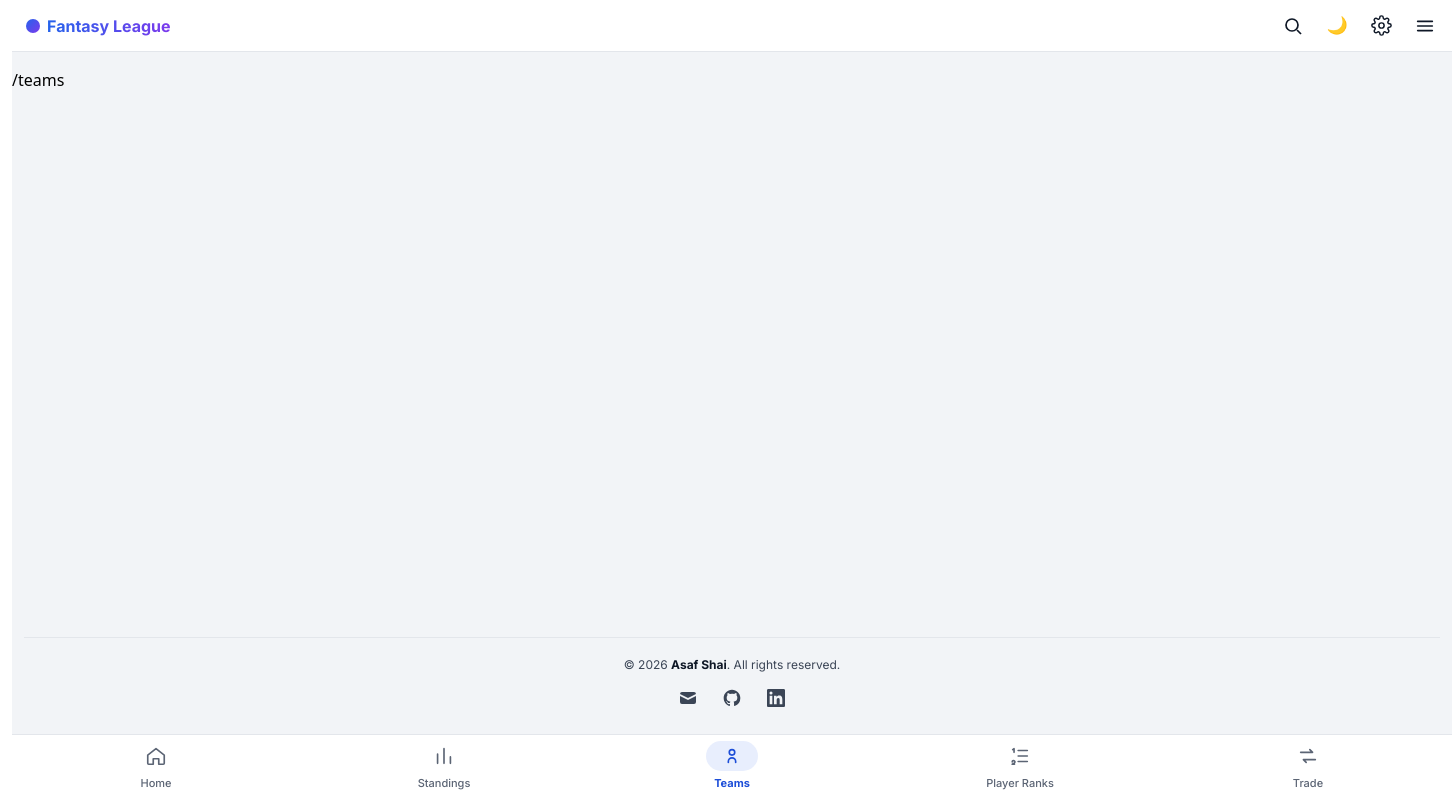
Test: Settings page › opens from the header gear
The width and height of the screenshot is (1452, 810).
What coordinates should you click on to do the following:
click the link named "Settings"
I would click on:
 (1381, 26)
Its box is [1370, 15, 1392, 36].
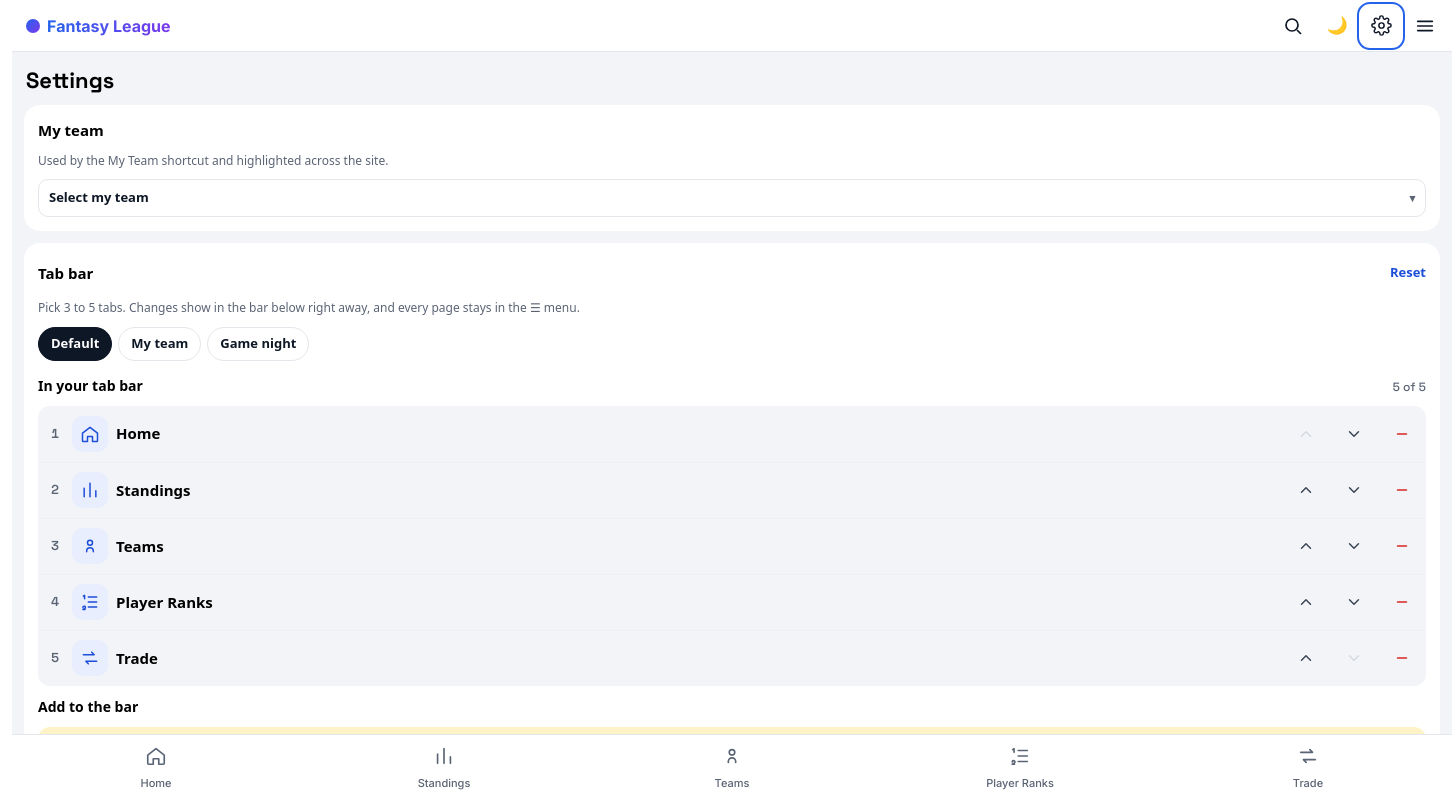
Expected: the heading "Settings" is shown, [26, 66, 114, 94]
